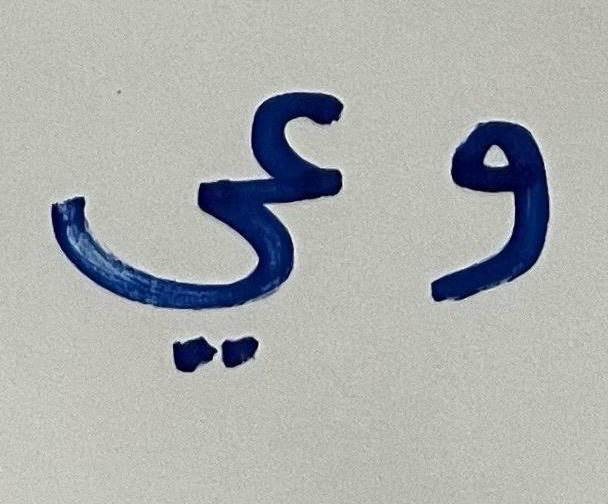ain: (236, 57, 381, 208)
waw: (387, 39, 581, 349)
yeh: (40, 213, 311, 398)
